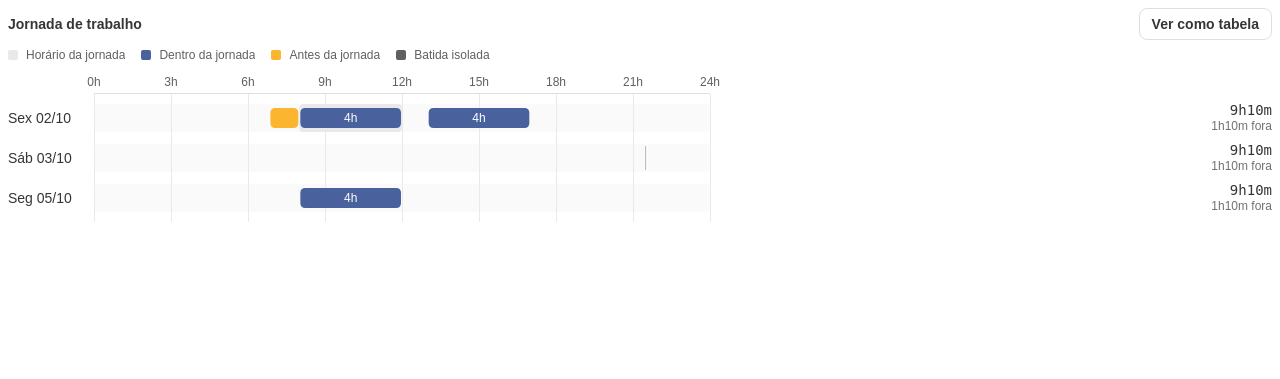
Test: ChartTimeline › troca o desenho pela tabela, com uma secao por linha e faixas e instantes em linhas proprias
Click the button "Ver como tabela": (1205, 24) [1139,8,1272,40]
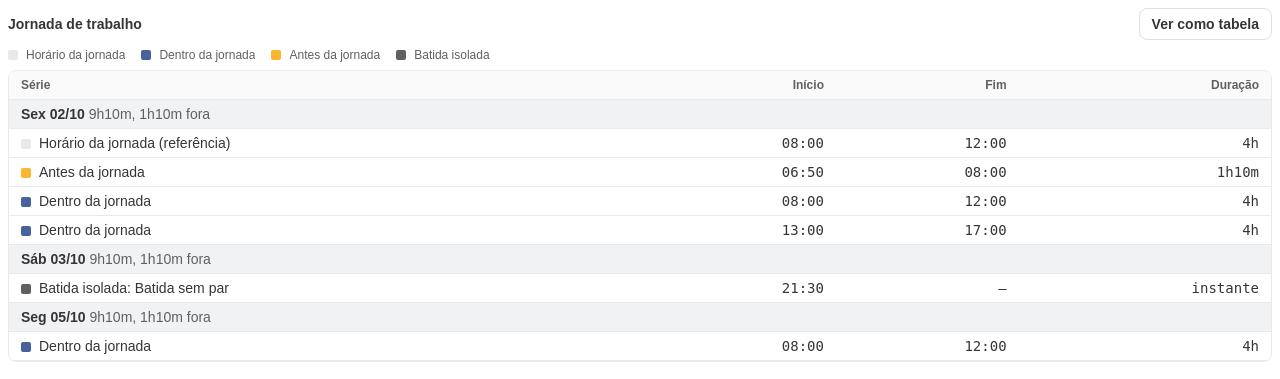
Now the picture is gone
Now the table shows "Sex 02/10 9h10m, 1h10m fora"
Click the button "Ver como tabela": (1205, 24) [1139,8,1272,40]
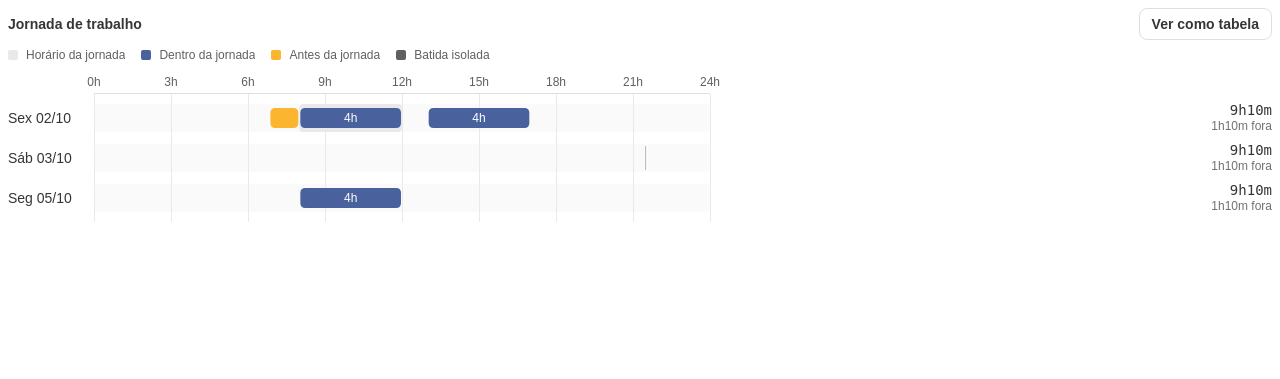
Now the picture is shown, box [84,70,724,222]
